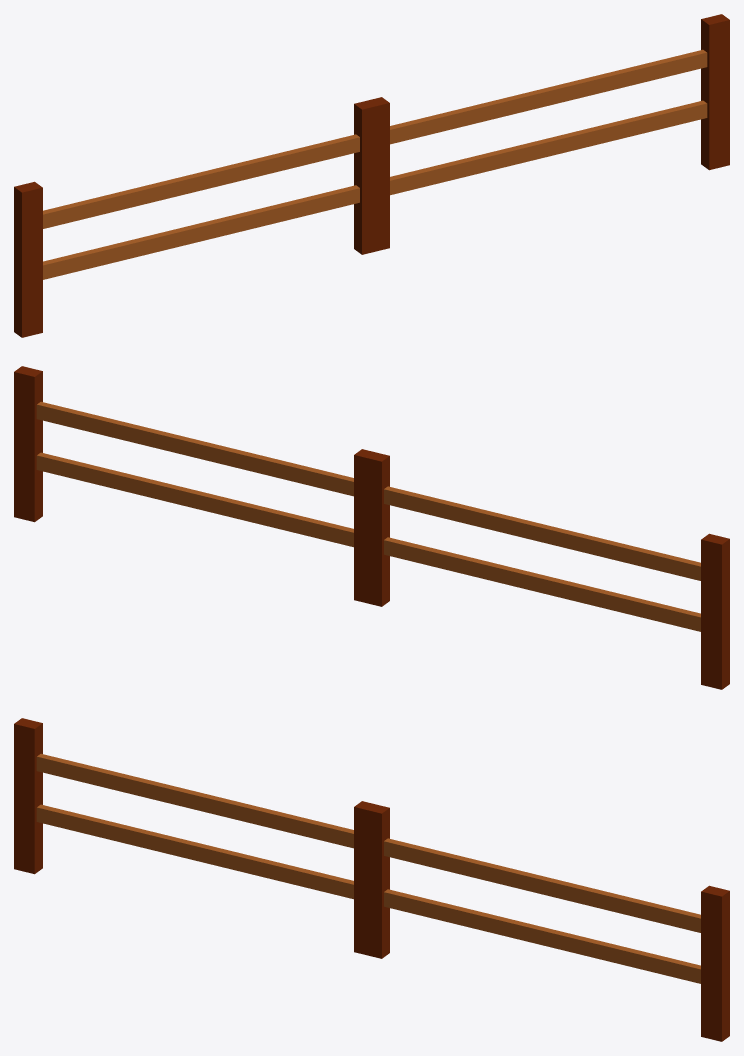
File: fence.fbx
The picture shows the model from 3 angles, top to bottom: view 1: azimuth 30°, elevation 25°; view 2: azimuth 150°, elevation 25°; view 3: azimuth 330°, elevation 25°; orthographic projection.
Parts seen in each view (by area): view 1: Fence; view 2: Fence; view 3: Fence.
Part boxes in pixels (x1,y1,x2,y2): Fence: [14, 14, 729, 337]; Fence: [14, 366, 729, 689]; Fence: [14, 718, 729, 1041].
Size of the model in its own units: 102 by 20 by 2.
